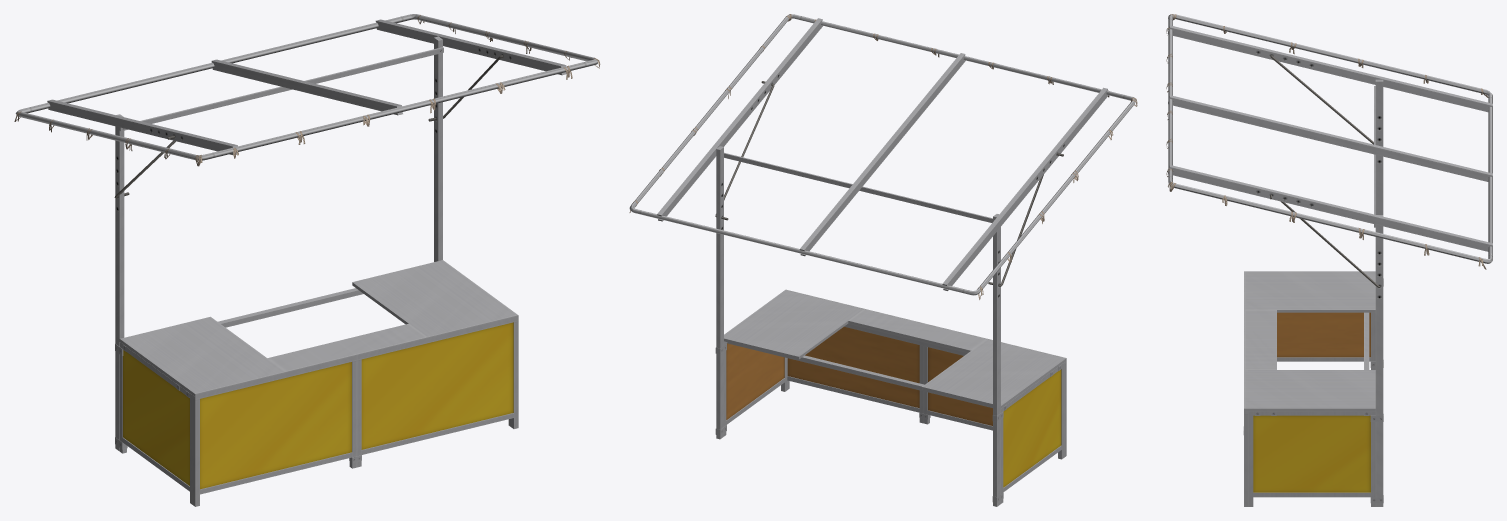
The model's file is jsf_2P_s02_c03_t02.fbx.
3 renders of one model, left to right at view 1: azimuth 30°, elevation 25°; view 2: azimuth 150°, elevation 25°; view 3: azimuth 270°, elevation 25°, orthographic. The views are drawn at different scales.
Parts seen in each view (by area): view 1: Base_s02_c03, Pillar2_s02, Table_2P_s02_t02, Rope_2P_s02; view 2: Base_s02_c03, Pillar2_s02, Table_2P_s02_t02; view 3: Pillar2_s02, Base_s02_c03, Table_2P_s02_t02, Rope_2P_s02.
Part boxes in pixels (x1=…): Base_s02_c03: x1=115, y1=315, x2=518, y2=506; Pillar2_s02: x1=15, y1=14, x2=597, y2=451; Table_2P_s02_t02: x1=119, y1=260, x2=517, y2=397; Rope_2P_s02: x1=14, y1=15, x2=600, y2=166; Base_s02_c03: x1=715, y1=289, x2=1066, y2=503; Pillar2_s02: x1=629, y1=14, x2=1135, y2=506; Table_2P_s02_t02: x1=724, y1=290, x2=1065, y2=410; Pillar2_s02: x1=1168, y1=14, x2=1492, y2=506; Base_s02_c03: x1=1243, y1=271, x2=1383, y2=506; Table_2P_s02_t02: x1=1245, y1=271, x2=1375, y2=415; Rope_2P_s02: x1=1166, y1=14, x2=1488, y2=269.
Size of the model in its own units: 264 by 244 by 211.
